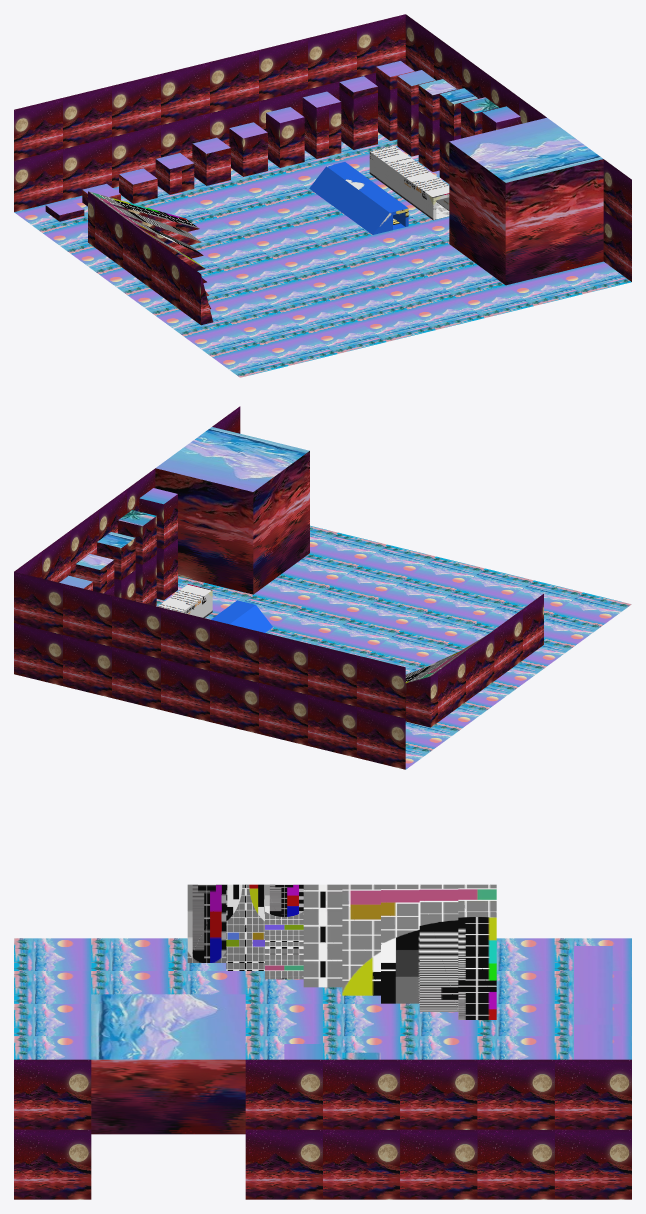
Rendered from test_level_1.min.glb.
The picture shows the model from 3 angles, top to bottom: view 1: azimuth 30°, elevation 25°; view 2: azimuth 150°, elevation 25°; view 3: azimuth 270°, elevation 25°; orthographic projection. The views are drawn at different scales.
Parts seen in each view (by area): view 1: test1; view 2: test1; view 3: test1.
Boxes of the visible parts, box(x1,y1,x2,y2) form: test1: box(14, 14, 631, 377); test1: box(14, 406, 631, 769); test1: box(14, 884, 631, 1199).
Size of the model in its own units: 20.48 by 5.12 by 20.48.
Materials: 5 (5 with a texture image).
